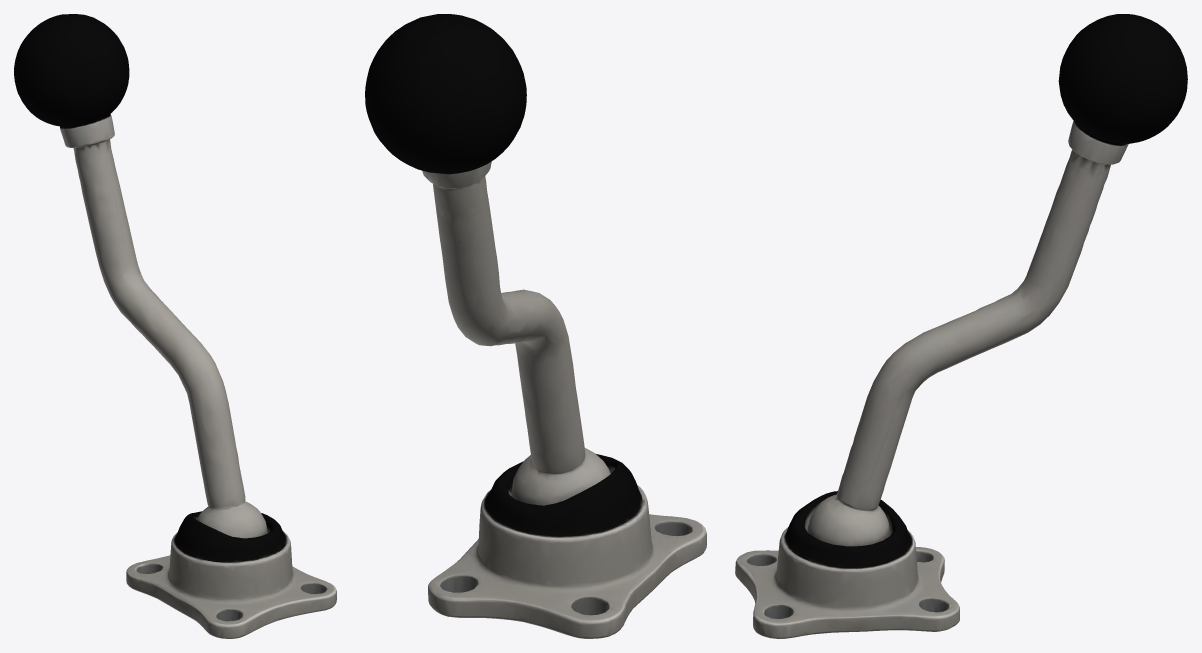
File: m-t-floor-shift-linkage.glb
3 views of the same model, side by side, from view 1: azimuth 30°, elevation 25°; view 2: azimuth 150°, elevation 25°; view 3: azimuth 270°, elevation 25° (orthographic). The views are drawn at different scales.
Parts seen in each view (by area): view 1: tripo_node_89ec4ce5-2fbe-4ad9-aa38-2f45ac22fb39; view 2: tripo_node_89ec4ce5-2fbe-4ad9-aa38-2f45ac22fb39; view 3: tripo_node_89ec4ce5-2fbe-4ad9-aa38-2f45ac22fb39.
Boxes of the visible parts, x1,y1,x2,y2 form: tripo_node_89ec4ce5-2fbe-4ad9-aa38-2f45ac22fb39: [14, 14, 336, 638]; tripo_node_89ec4ce5-2fbe-4ad9-aa38-2f45ac22fb39: [365, 14, 706, 638]; tripo_node_89ec4ce5-2fbe-4ad9-aa38-2f45ac22fb39: [735, 14, 1187, 638].
Bounding box in the file's own units: 0.3375 × 1 × 0.7296.
Materials: 1 (1 with a texture image).
